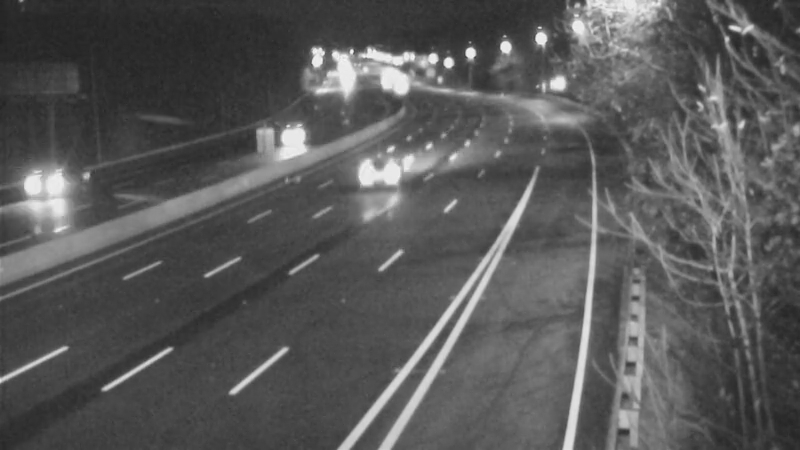vehicle: (342, 129, 422, 209), (10, 146, 90, 226), (371, 56, 421, 106), (268, 111, 318, 161)
